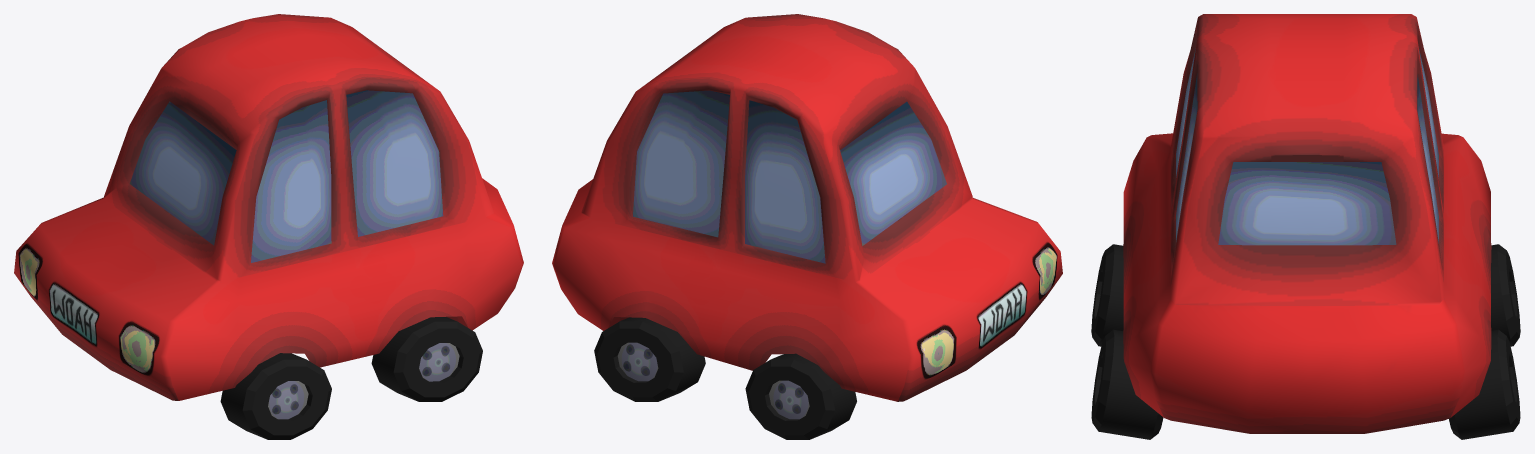
File: CarModel.FBX
The picture shows the model from 3 angles, left to right: view 1: azimuth 30°, elevation 25°; view 2: azimuth 150°, elevation 25°; view 3: azimuth 270°, elevation 25°; orthographic projection. The views are drawn at different scales.
Parts seen in each view (by area): view 1: Box004; view 2: Box004; view 3: Box004.
Boxes of the visible parts, x1,y1,x2,y2 form: Box004: [14, 14, 523, 439]; Box004: [552, 14, 1062, 439]; Box004: [1091, 14, 1520, 439].
Size of the model in its own units: 289 by 207 by 223.
Materials: 1 (1 with a texture image).
